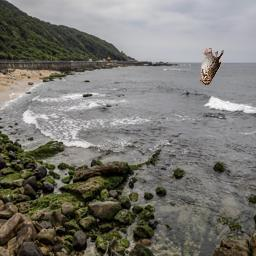Sparrow: (200, 49, 225, 86)
